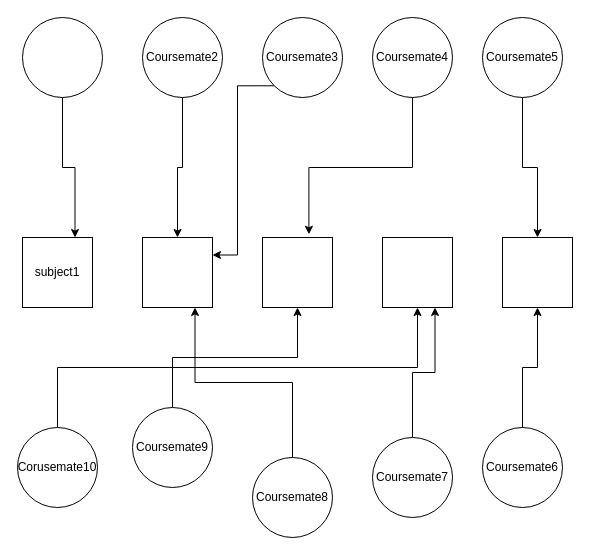
The diagram is 590 pixels wide and 555 high, and some of its shapes have lost their labels. The centre of each missing label's shape, as x and y in pixels:
Coursemate1: the point at 62,57
subject2: the point at 177,272
subject3: the point at 297,272
subject4: the point at 417,272
subject5: the point at 537,272
